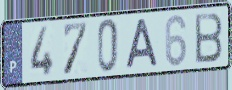0: (96, 17, 122, 75)
4: (28, 24, 56, 79)
6: (163, 13, 188, 69)
7: (62, 20, 89, 77)
A: (124, 17, 160, 71)
B: (193, 11, 225, 66)
